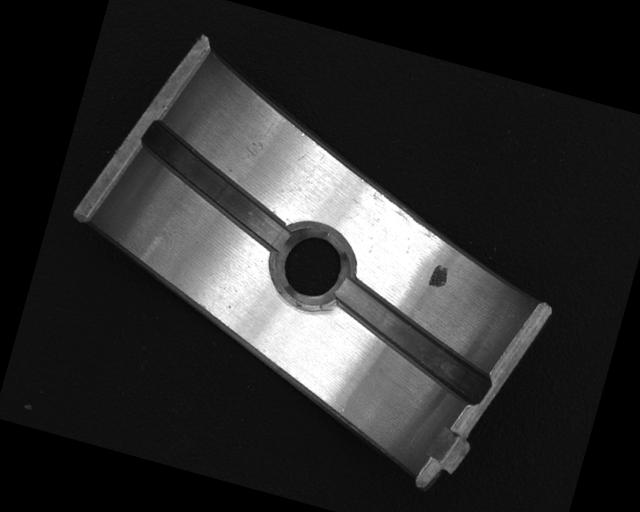blot: (426, 262, 451, 293)
gap: (121, 118, 310, 256), (319, 272, 506, 407)
hole: (267, 222, 355, 317)
